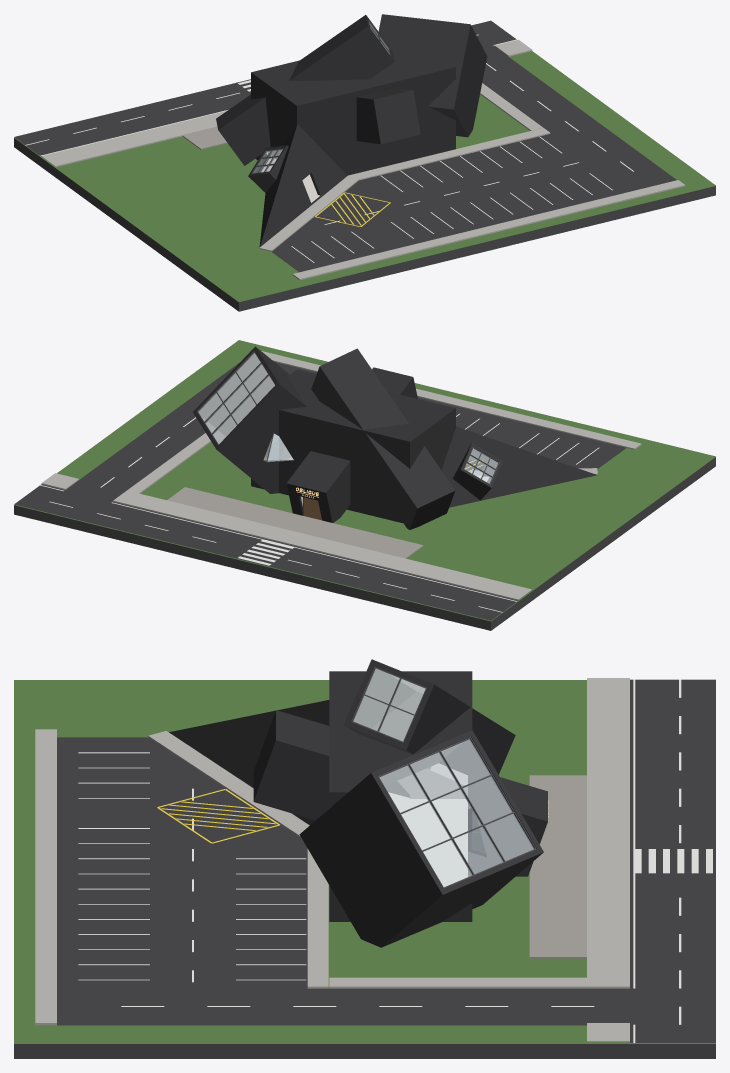
Rendered from oblique-tas.glb.
3 views of the same model, one above another, from view 1: azimuth 30°, elevation 25°; view 2: azimuth 150°, elevation 25°; view 3: azimuth 270°, elevation 25° (orthographic). The views are drawn at different scales.
Parts seen in each view (by area): view 1: Bina_Duvarlar, Zemin_cim, Otopark_arka, Ana_yol_ve_tali_yol, Meydan_ve_kaldirim, Parsel_Kaide, Otopark_cizgileri, Yol_cizgileri; view 2: Bina_Duvarlar, Zemin_cim, Ana_yol_ve_tali_yol, Meydan_ve_kaldirim, Parsel_Kaide, Otopark_arka, Cam_Buyuk_Egik_cam, Yol_cizgileri, Cam_Kucuk_Kup_cam, Piramit_Eskenar_5m; view 3: Otopark_arka, Bina_Duvarlar, Zemin_cim, Ana_yol_ve_tali_yol, Meydan_ve_kaldirim, Cam_Buyuk_Egik_cam, Parsel_Kaide, Otopark_cizgileri, Pencere_Egik_Uc_cam, Yol_cizgileri, Yukleme_alani_tarama.
Boxes of the visible parts, x1,y1,x2,y2 form: Bina_Duvarlar: (216,14,487,247); Zemin_cim: (14,51,715,302); Otopark_arka: (272,134,685,280); Ana_yol_ve_tali_yol: (14,20,661,180); Meydan_ve_kaldirim: (41,39,550,251); Parsel_Kaide: (14,138,715,311); Otopark_cizgileri: (291,136,612,262); Yol_cizgileri: (25,34,633,171); Bina_Duvarlar: (193,346,597,529); Zemin_cim: (14,340,715,621); Ana_yol_ve_tali_yol: (14,367,518,620); Meydan_ve_kaldirim: (41,433,597,600); Parsel_Kaide: (14,457,715,630); Otopark_arka: (233,351,641,470); Cam_Buyuk_Egik_cam: (198,353,274,443); Yol_cizgileri: (40,417,516,612); Cam_Kucuk_Kup_cam: (465,448,497,483); Piramit_Eskenar_5m: (264,434,293,461); Otopark_arka: (35,729,307,1025); Bina_Duvarlar: (169,659,547,947); Zemin_cim: (14,680,715,1043); Ana_yol_ve_tali_yol: (107,679,715,1042); Meydan_ve_kaldirim: (148,678,629,1041); Cam_Buyuk_Egik_cam: (379,739,533,886); Parsel_Kaide: (14,1044,715,1058); Otopark_cizgileri: (78,752,306,982); Pencere_Egik_Uc_cam: (353,668,425,741); Yol_cizgileri: (121,679,712,1042); Yukleme_alani_tarama: (161,801,275,830).
Bounding box in the file's own units: 60 × 17.11 × 49.
